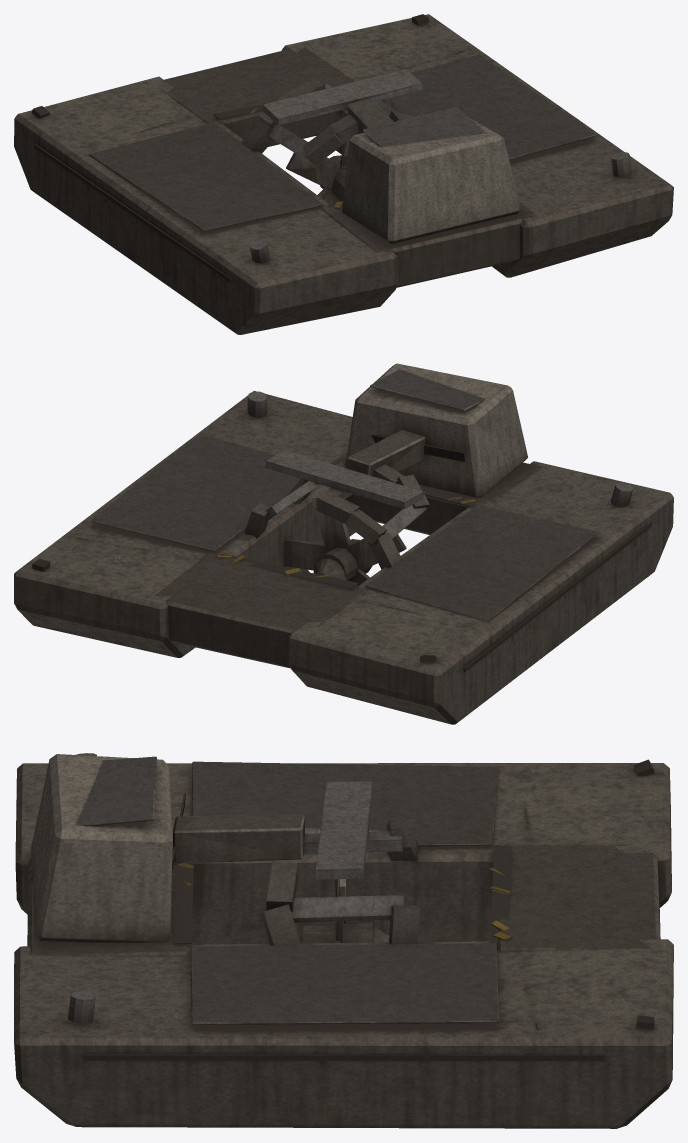
File: ord_tidal_wreck.fbx
3 renders of one model, top to bottom at view 1: azimuth 30°, elevation 25°; view 2: azimuth 150°, elevation 25°; view 3: azimuth 270°, elevation 25°, orthographic. The views are drawn at different scales.
Parts seen in each view (by area): view 1: base_bar, rotor_bar; view 2: base_bar, rotor_bar; view 3: base_bar, rotor_bar.
Boxes of the visible parts, x1,y1,x2,y2 form: base_bar: (14, 14, 673, 334); rotor_bar: (286, 141, 348, 204); base_bar: (14, 363, 673, 724); rotor_bar: (284, 495, 406, 586); base_bar: (14, 753, 673, 1128); rotor_bar: (303, 879, 389, 943).
Size of the model in its own units: 1555 by 728 by 1527.
2 materials, 2 textured.
